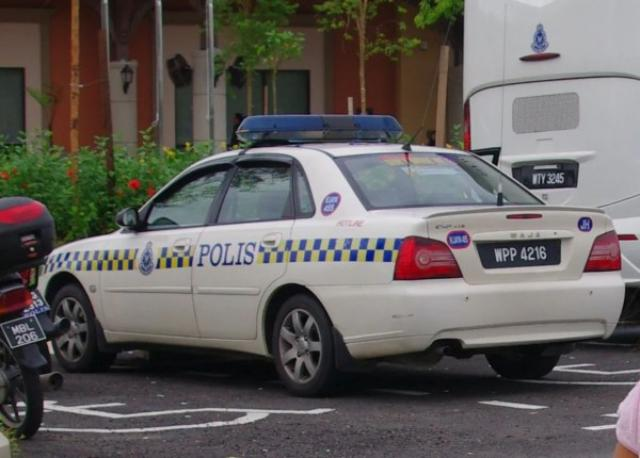License_Plate: (487, 241, 561, 272), (518, 168, 580, 189), (5, 320, 44, 351)
car: (31, 103, 630, 385)
motorcycle: (1, 170, 71, 444)
